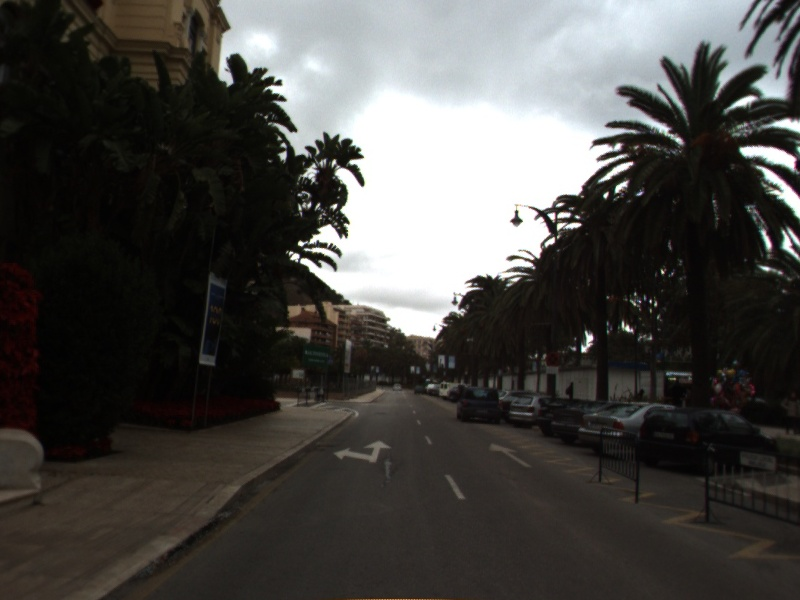STRAIGHT: (486, 441, 535, 469)
STRAIGHT_LEFT: (331, 438, 395, 465)
